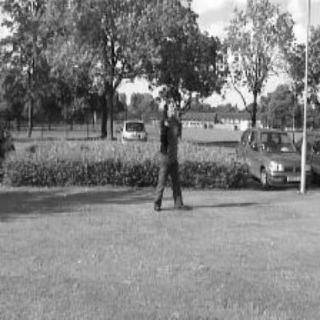other: (161, 114, 181, 164)
